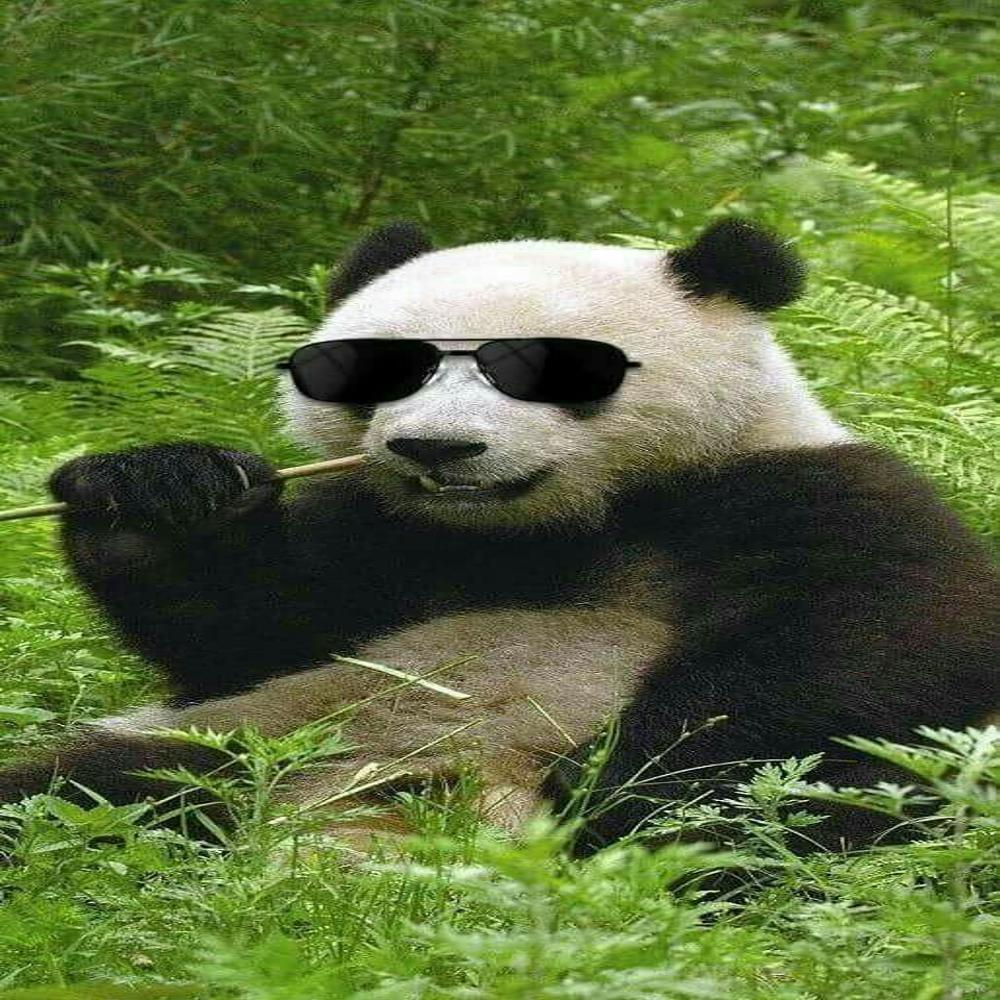panda: (52, 222, 1000, 846)
